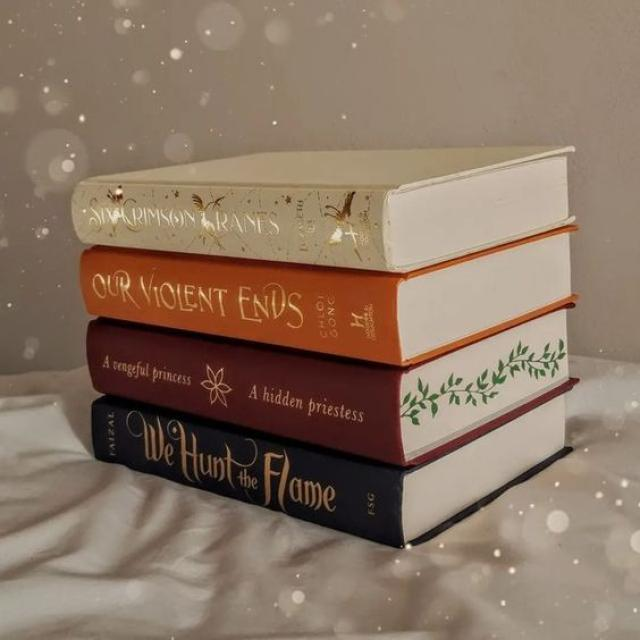book: (90, 406, 401, 546), (86, 328, 403, 463), (79, 252, 401, 364), (78, 185, 388, 269)
